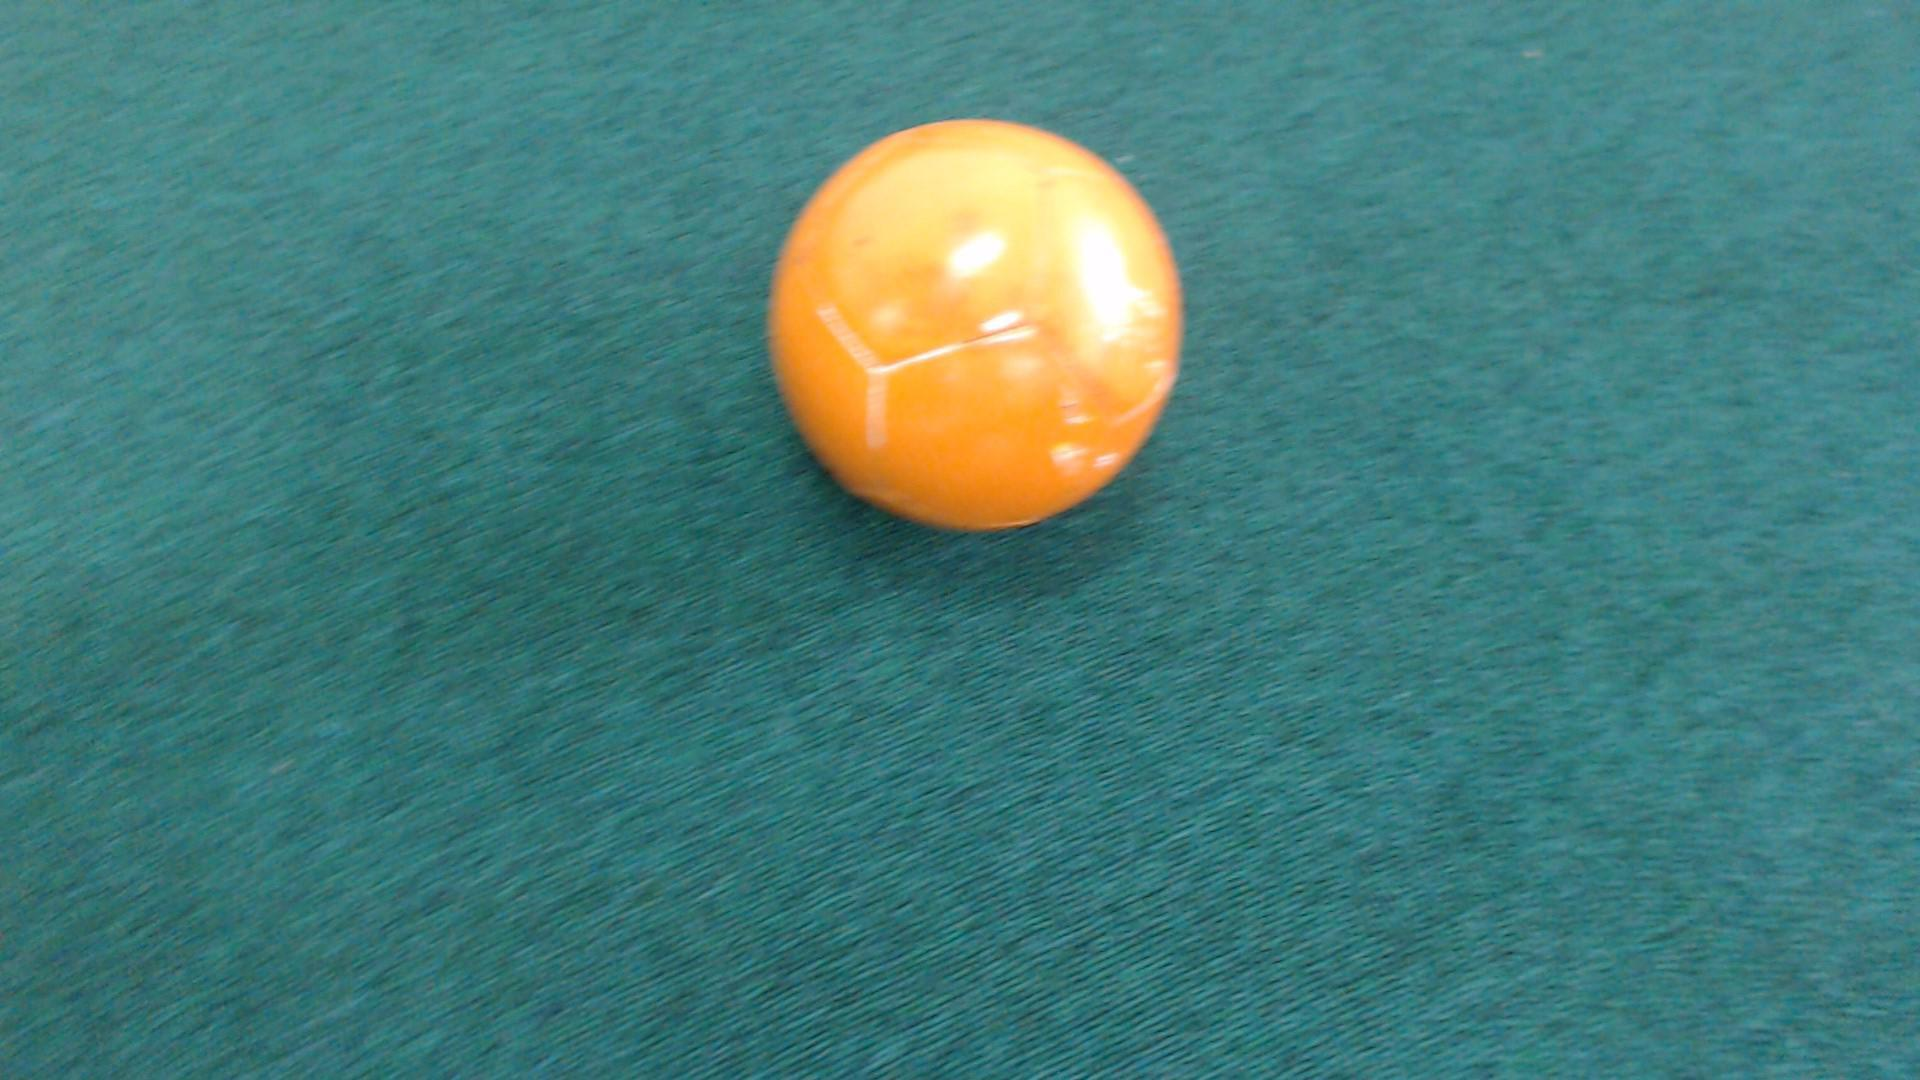bola: (754, 88, 1209, 564)
